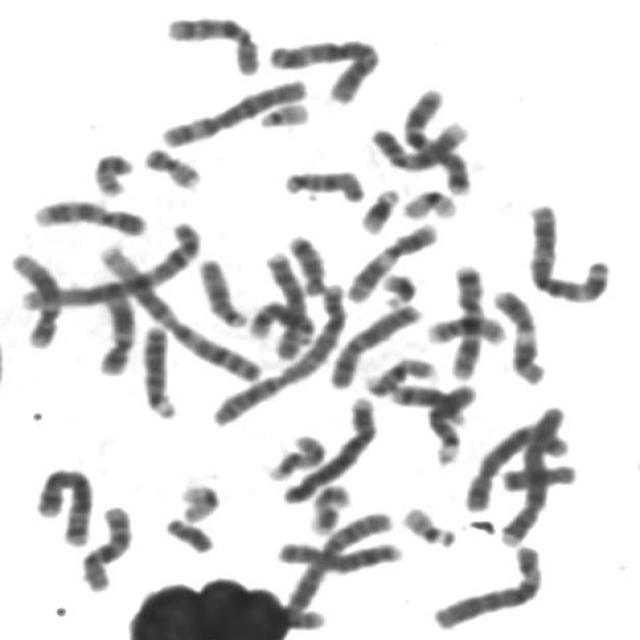A1: (90, 234, 267, 384), (15, 215, 204, 312)
A2: (204, 274, 353, 428), (271, 503, 397, 631)
A3: (520, 195, 615, 305), (262, 30, 385, 104)
B4: (276, 389, 381, 506), (493, 398, 571, 549)
B5: (457, 413, 574, 515), (28, 460, 98, 549)
C10: (160, 7, 266, 77), (74, 498, 138, 594)
C11: (340, 215, 443, 305), (487, 282, 550, 386)
C12: (5, 246, 66, 350), (90, 277, 140, 376)
C6: (155, 70, 312, 150), (426, 537, 549, 631)
C7: (396, 80, 474, 198), (443, 256, 489, 380)
C8: (258, 243, 313, 357), (271, 532, 409, 574)
C9: (365, 114, 475, 174), (27, 190, 152, 238)
D13: (423, 377, 481, 466), (135, 316, 181, 421)
D14: (383, 375, 471, 426), (244, 294, 318, 350)
D15: (192, 250, 251, 329), (276, 162, 369, 204)
E16: (359, 349, 442, 397), (422, 307, 512, 348)
E17: (262, 428, 329, 482), (303, 478, 354, 536)
E18: (493, 455, 581, 494), (282, 226, 331, 296)
F19: (397, 182, 463, 222), (173, 476, 225, 524)
F20: (136, 139, 206, 190), (88, 145, 138, 198)
G21: (353, 180, 405, 235), (376, 264, 420, 309)
G22: (397, 499, 463, 549), (252, 94, 314, 130)
X: (323, 296, 427, 390)
Y: (158, 510, 218, 555)
